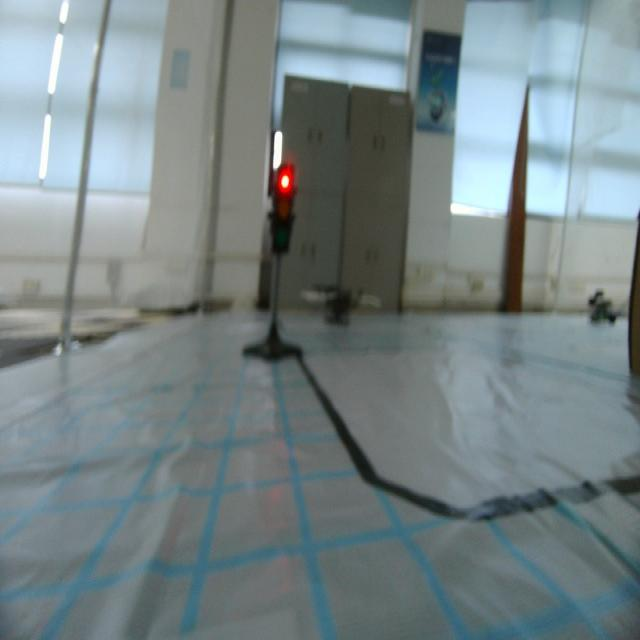red: (270, 162, 298, 258)
